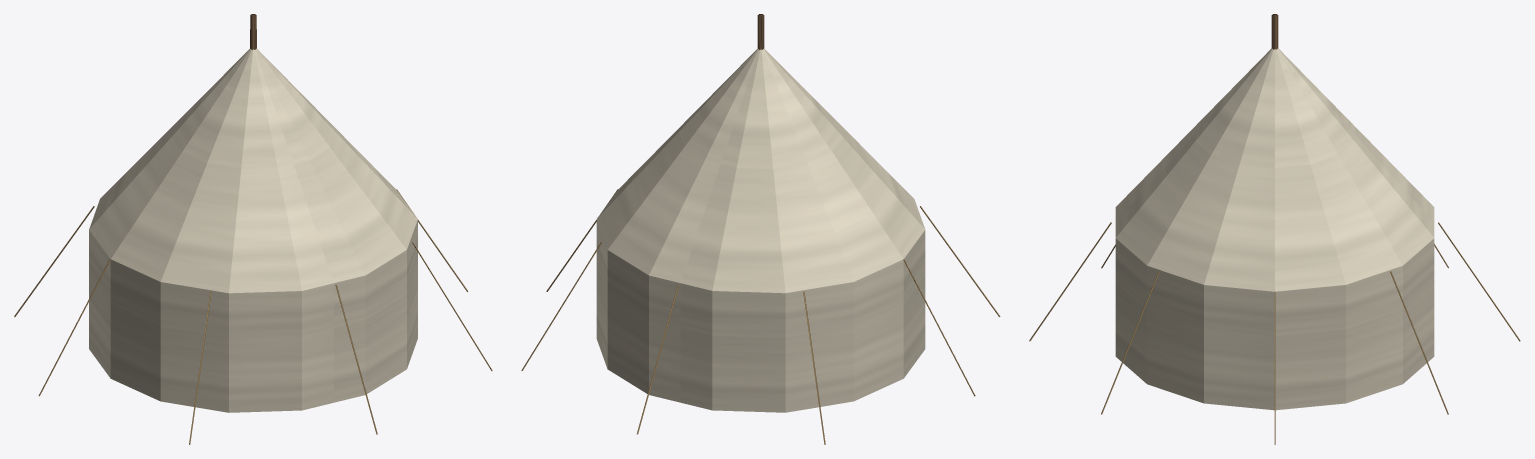
Rendered from Tent_Pavilion_1.gltf.
The picture shows the model from 3 angles, left to right: view 1: azimuth 30°, elevation 25°; view 2: azimuth 150°, elevation 25°; view 3: azimuth 270°, elevation 25°; orthographic projection.
Visible parts, largest first — view 1: Tent_Pavilion_1; view 2: Tent_Pavilion_1; view 3: Tent_Pavilion_1.
Part boxes in pixels (<box>): Tent_Pavilion_1: <box>14,14,492,444</box>; Tent_Pavilion_1: <box>521,14,1000,444</box>; Tent_Pavilion_1: <box>1029,14,1520,444</box>.
Bounding box in the file's own units: 6.01 × 4.4 × 6.01.
3 materials, 3 textured.
